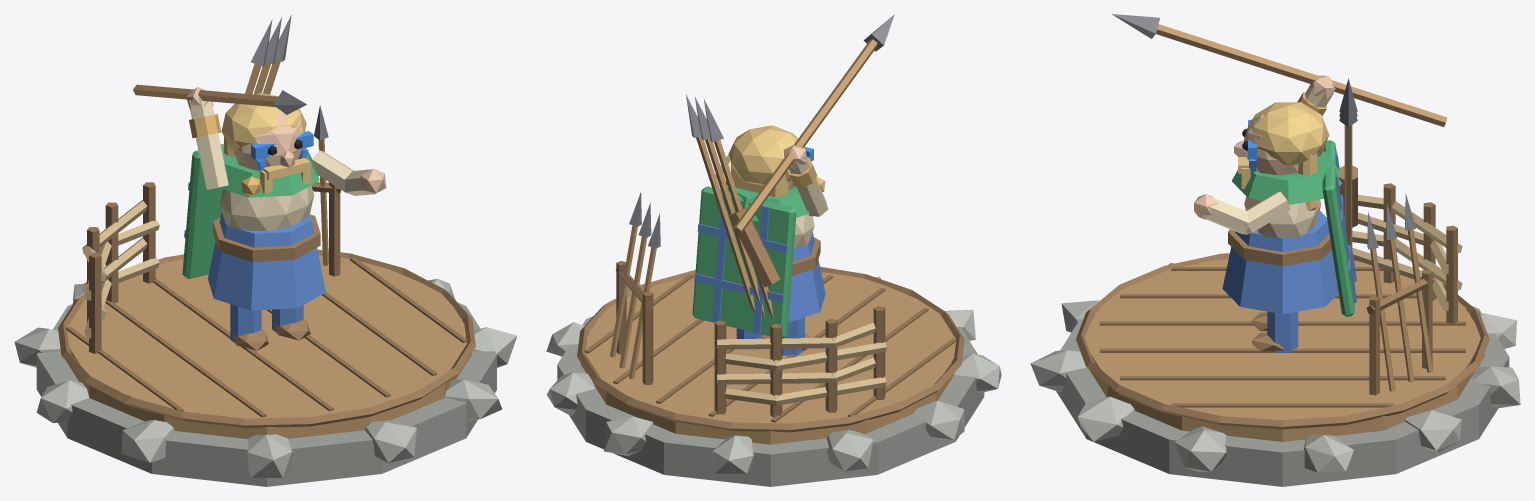
Rendered from javelin_thrower.glb.
3 views of the same model, side by side, from view 1: azimuth 30°, elevation 25°; view 2: azimuth 150°, elevation 25°; view 3: azimuth 270°, elevation 25° (orthographic). The views are drawn at different scales.
Parts seen in each view (by area): view 1: Cylinder.001, Cylinder, Cone.003, Torus, Cube.013, Icosphere.013, Icosphere.018, Cylinder.026, Icosphere.007, Cone.004, Icosphere.006, Icosphere.008 (+23 smaller); view 2: Cylinder.001, Cylinder, Cube.013, Torus, Icosphere.018, Cylinder.036, Cone.003, Icosphere.004, Icosphere.002, Icosphere.005, Icosphere.003, Cylinder.031 (+40 smaller); view 3: Cylinder.001, Cylinder, Cone.003, Torus, Icosphere.018, Cylinder.036, Cone.004, Cube.013, Icosphere.010, Icosphere.009, Cylinder.026, Icosphere (+27 smaller).
Part boxes in pixels (x1,y1,x2,y2): Cylinder.001: [66, 255, 471, 439]; Cylinder: [36, 302, 496, 486]; Cone.003: [208, 212, 325, 310]; Torus: [58, 249, 475, 427]; Cube.013: [182, 144, 223, 279]; Icosphere.013: [219, 185, 314, 230]; Icosphere.018: [221, 93, 306, 150]; Cylinder.026: [213, 214, 320, 262]; Icosphere.007: [247, 434, 293, 477]; Cone.004: [218, 146, 319, 197]; Icosphere.006: [121, 420, 174, 462]; Icosphere.008: [365, 420, 416, 463]; Cylinder.001: [580, 272, 955, 444]; Cylinder: [557, 316, 984, 486]; Cube.013: [692, 186, 796, 338]; Torus: [577, 266, 964, 432]; Icosphere.018: [729, 125, 804, 185]; Cylinder.036: [733, 39, 877, 234]; Cone.003: [788, 232, 825, 322]; Icosphere.004: [826, 430, 873, 471]; Icosphere.002: [604, 416, 653, 455]; Icosphere.005: [913, 400, 964, 440]; Icosphere.003: [712, 435, 754, 473]; Cylinder.031: [728, 207, 780, 287]; Cylinder.001: [1084, 259, 1484, 441]; Cylinder: [1056, 306, 1509, 486]; Cone.003: [1222, 210, 1338, 314]; Torus: [1076, 253, 1489, 429]; Icosphere.018: [1252, 102, 1329, 165]; Cylinder.036: [1156, 24, 1447, 126]; Cone.004: [1232, 150, 1342, 204]; Cube.013: [1322, 140, 1354, 316]; Icosphere.010: [1174, 426, 1227, 471]; Icosphere.009: [1078, 396, 1134, 441]; Cylinder.026: [1228, 229, 1331, 266]; Icosphere: [1304, 434, 1353, 472].
Bounding box in the file's own units: 3.31 × 2.68 × 3.35.
